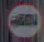Heavy Vehicles: (5, 4, 41, 41)
